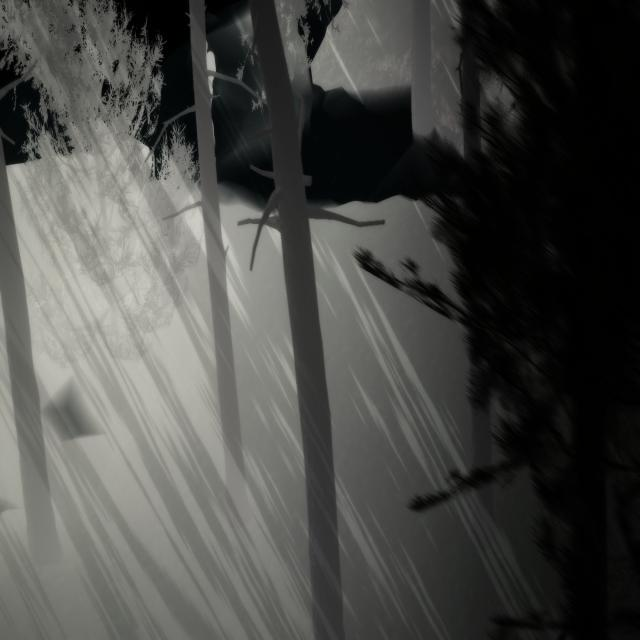Human: (203, 33, 216, 152)
